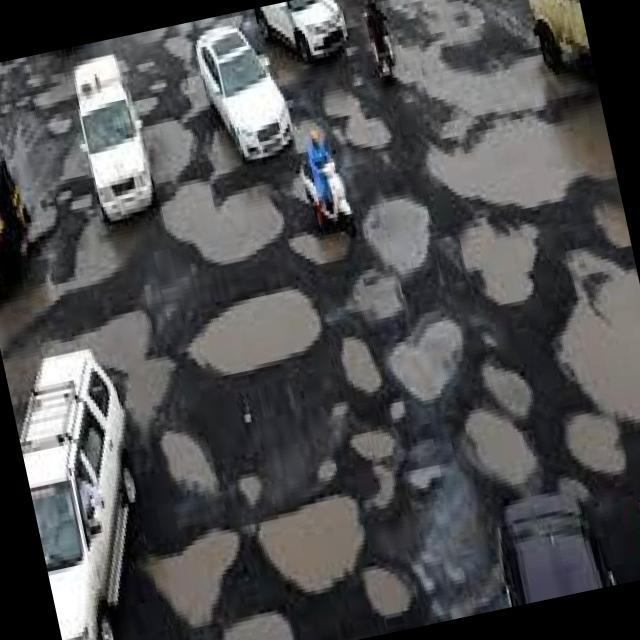pothole: (384, 0, 576, 142), (426, 99, 615, 207), (57, 307, 178, 435), (556, 247, 640, 421), (185, 289, 323, 369), (253, 496, 365, 590), (145, 527, 236, 631), (162, 181, 279, 259), (452, 213, 541, 305), (386, 315, 464, 403), (463, 408, 544, 488), (363, 193, 426, 275), (135, 115, 192, 184), (319, 90, 387, 145), (569, 411, 625, 475), (165, 432, 219, 494), (360, 566, 411, 618), (352, 271, 398, 327), (479, 364, 524, 418), (338, 337, 379, 390), (590, 199, 631, 248), (221, 613, 295, 640), (287, 228, 349, 259), (179, 71, 209, 120), (353, 430, 390, 460), (163, 33, 193, 65), (126, 93, 154, 126)
